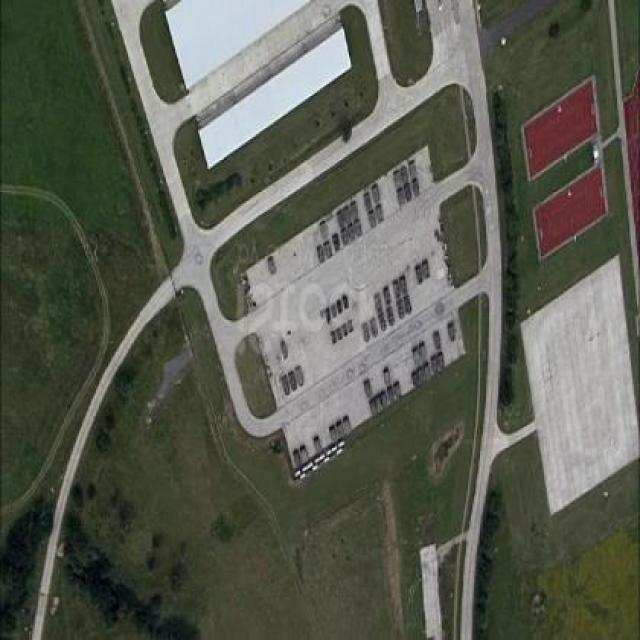tank: (335, 208, 346, 234), (266, 255, 278, 278), (280, 373, 291, 398), (287, 369, 298, 394), (318, 218, 331, 239), (418, 341, 429, 365), (386, 302, 396, 328), (382, 282, 392, 308), (396, 296, 406, 322), (340, 226, 350, 252), (353, 216, 363, 242), (370, 182, 381, 205), (396, 186, 407, 209), (433, 329, 443, 354), (295, 364, 305, 389), (403, 293, 412, 320), (374, 204, 385, 226), (447, 321, 457, 345), (421, 257, 431, 281), (392, 167, 402, 191), (392, 380, 402, 403), (412, 345, 422, 368), (410, 367, 420, 390), (411, 178, 421, 201), (408, 159, 418, 182), (430, 354, 439, 379), (361, 321, 370, 346), (378, 310, 387, 335), (363, 190, 372, 215), (404, 182, 413, 207), (436, 350, 445, 374), (332, 231, 341, 255), (399, 272, 408, 296), (350, 200, 359, 224), (300, 445, 310, 466), (382, 366, 392, 387), (317, 242, 326, 265), (324, 239, 333, 262), (370, 316, 378, 341), (280, 337, 288, 362), (342, 414, 351, 436), (423, 361, 432, 383), (373, 292, 382, 314), (347, 221, 355, 245), (392, 278, 400, 301), (363, 380, 372, 400), (369, 398, 378, 418), (374, 394, 383, 414), (416, 264, 424, 286), (344, 204, 351, 229), (369, 208, 376, 232), (402, 165, 409, 189), (313, 436, 322, 454), (293, 450, 301, 470), (336, 420, 344, 440), (380, 390, 388, 410), (387, 386, 395, 406), (335, 297, 343, 317), (336, 324, 344, 343), (341, 293, 349, 312), (417, 366, 424, 387), (329, 426, 337, 444), (324, 306, 331, 326), (341, 322, 349, 338), (347, 317, 354, 335), (330, 329, 337, 346), (331, 302, 336, 320)
